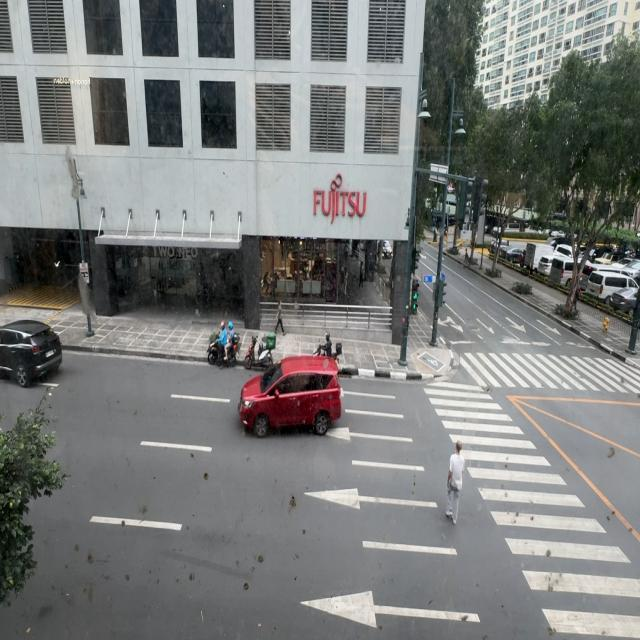jaywalking: (444, 441, 464, 524)
